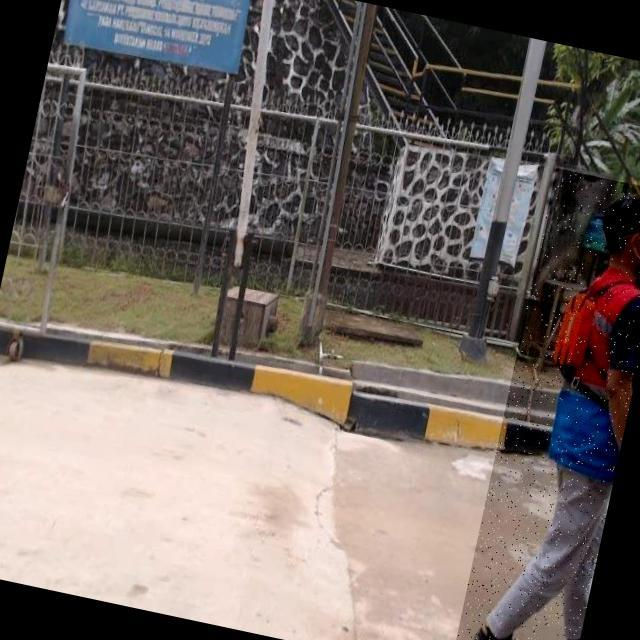Person: (450, 177, 640, 640)
Safety Vest: (526, 255, 640, 485)
